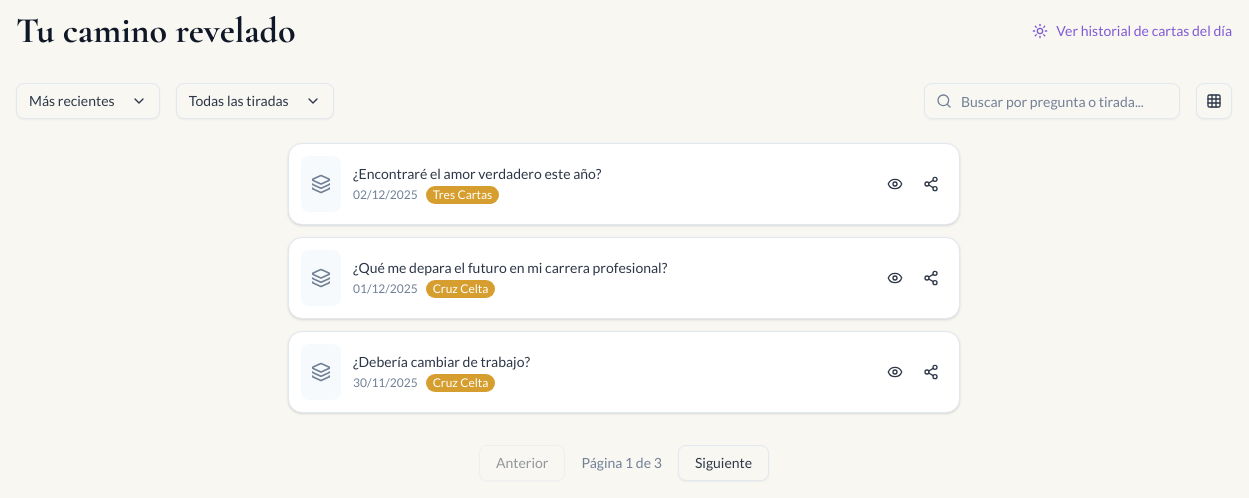
Test case: HistorialPage › Date Filter › should show filter options when clicked
Click the button with test id "date-filter" at x=88, y=101, box x1=16 y1=83 x2=160 y2=119
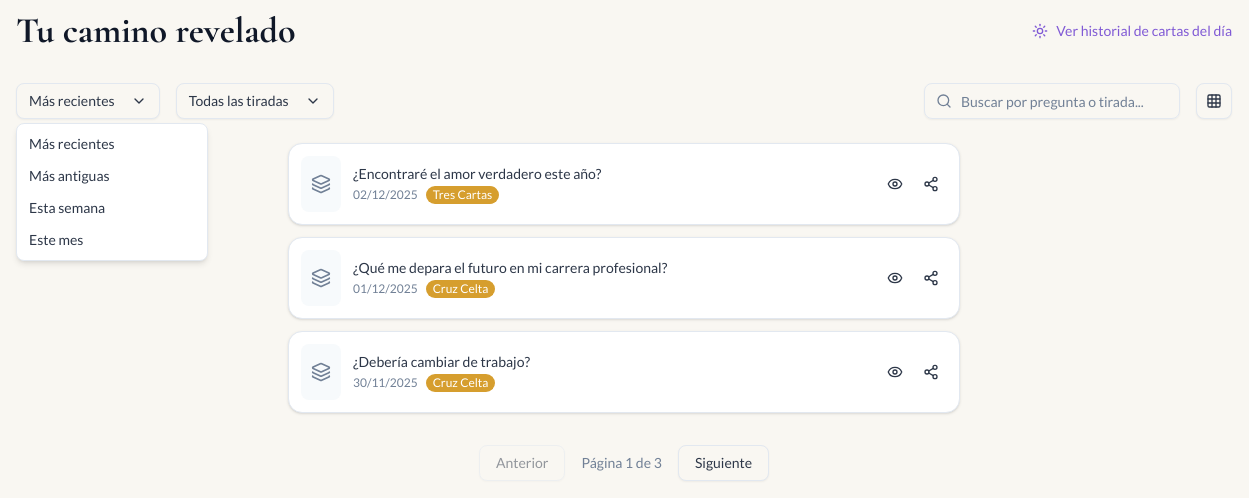
Expected: the menu item "Más recientes" is shown, x1=29 y1=135 x2=115 y2=152
Expected: the menu item "Más antiguas" is shown, x1=29 y1=167 x2=110 y2=184
Expected: the menu item "Esta semana" is shown, x1=29 y1=199 x2=105 y2=216
